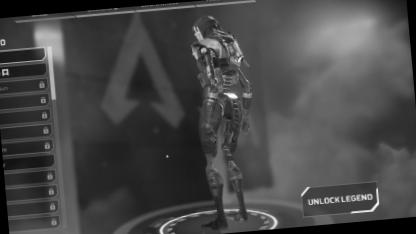Target: (184, 7, 256, 198)
